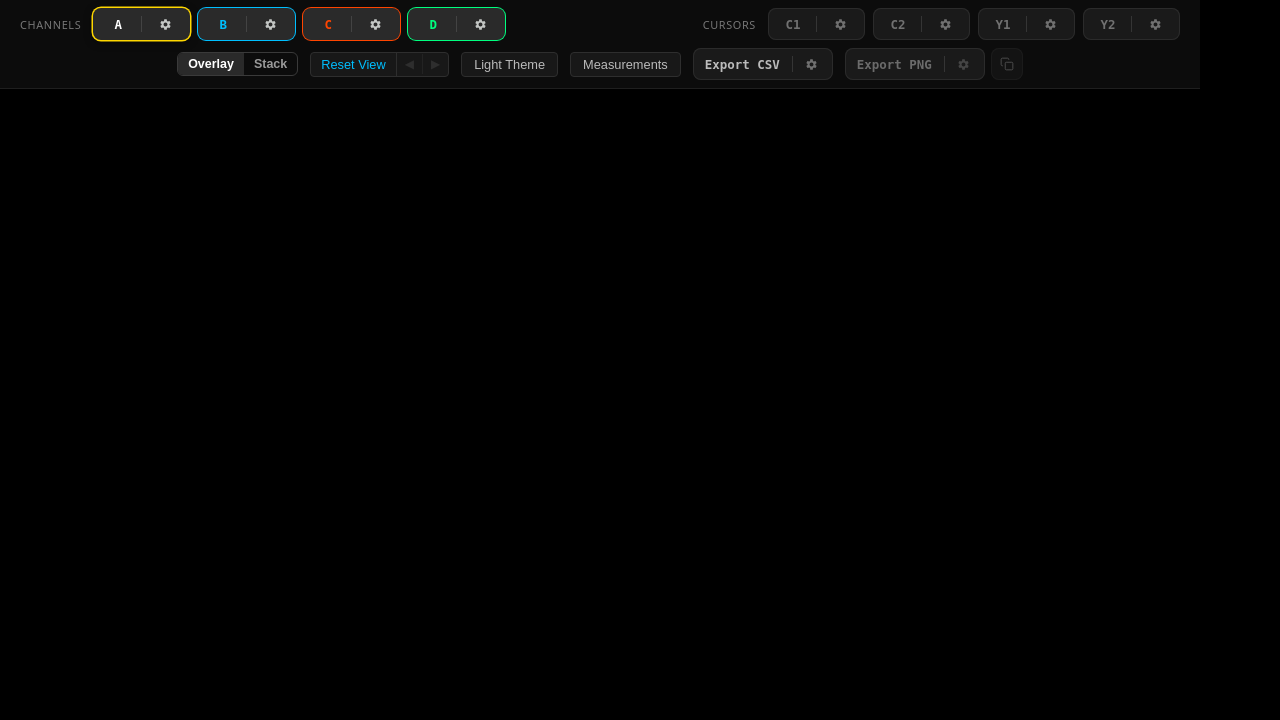
Channel display settings (issue #224) › renders the Display section in channel popovers only
Click the button named "Configure Channel A" at (166,24), box [142,0,190,48]
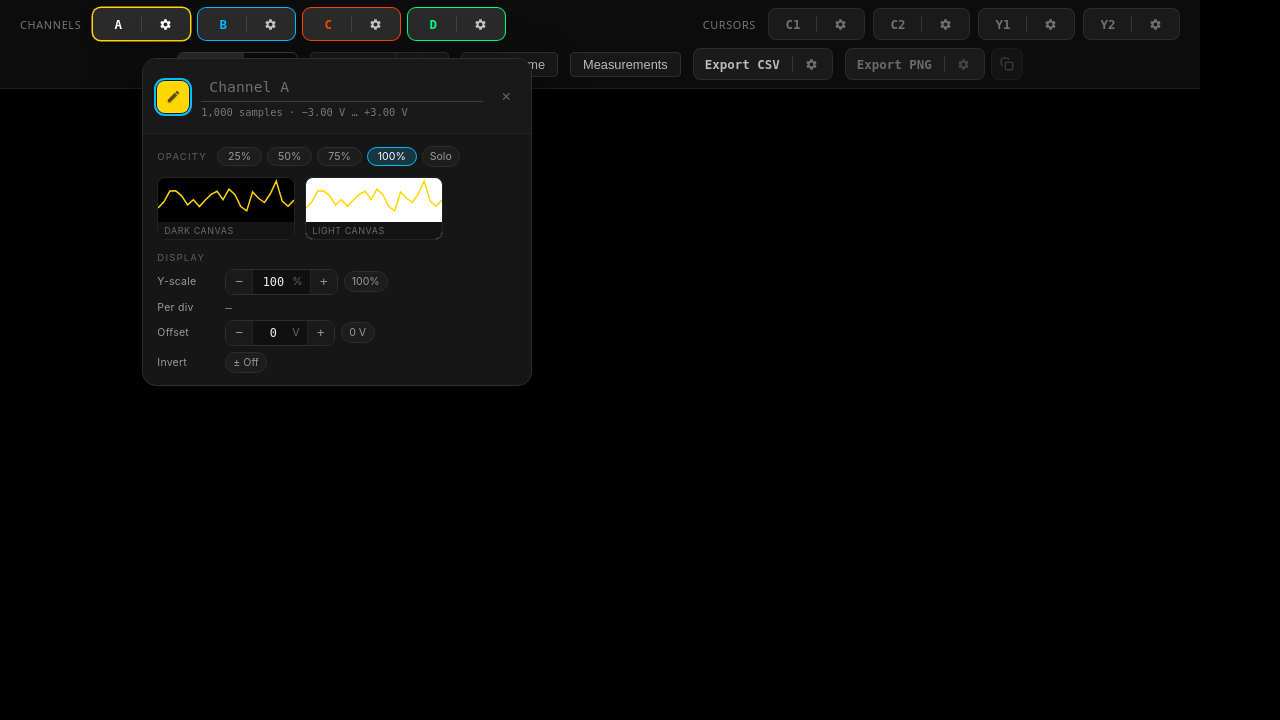
Expected: the element with test id "channel-display-section" is shown, [157,252,388,373]
Expected: the element with test id "scale-scrub-field" is shown, [225,269,338,295]
Expected: the element with test id "offset-scrub-field" is shown, [225,320,335,346]
Click the button named "Configure Cursor C1" at (841,24), box [817,0,865,48]
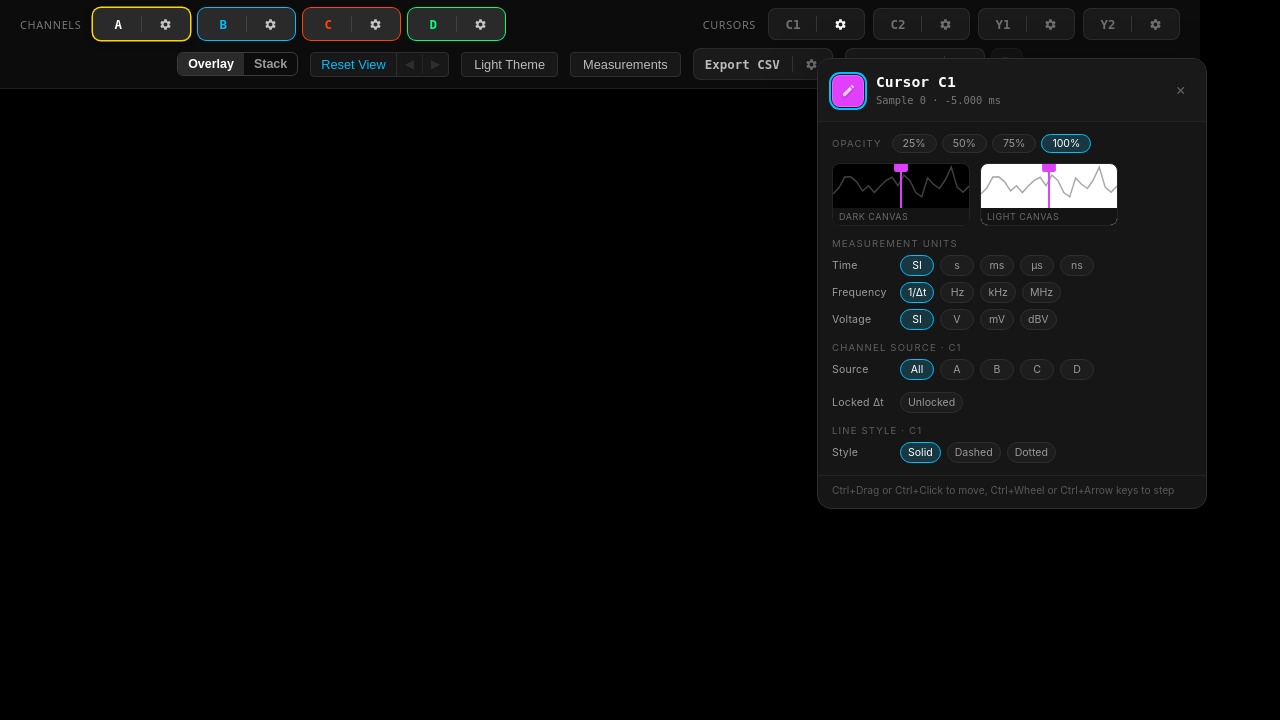
Expected: the element with test id "channel-display-section" is gone
